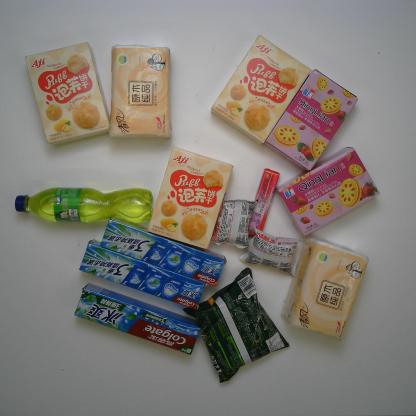Candy: (248, 168, 280, 237)
Dessert: (210, 34, 312, 145), (262, 68, 358, 172), (275, 146, 380, 237), (147, 147, 234, 249), (25, 42, 110, 145), (240, 226, 304, 276), (210, 191, 258, 249)
Drink: (15, 187, 154, 223)
Instant Noodles: (182, 268, 290, 384)
Personal Hygiene: (74, 283, 202, 356), (78, 239, 208, 309), (99, 217, 227, 286)
Tissue: (280, 235, 369, 341), (108, 44, 172, 140)
